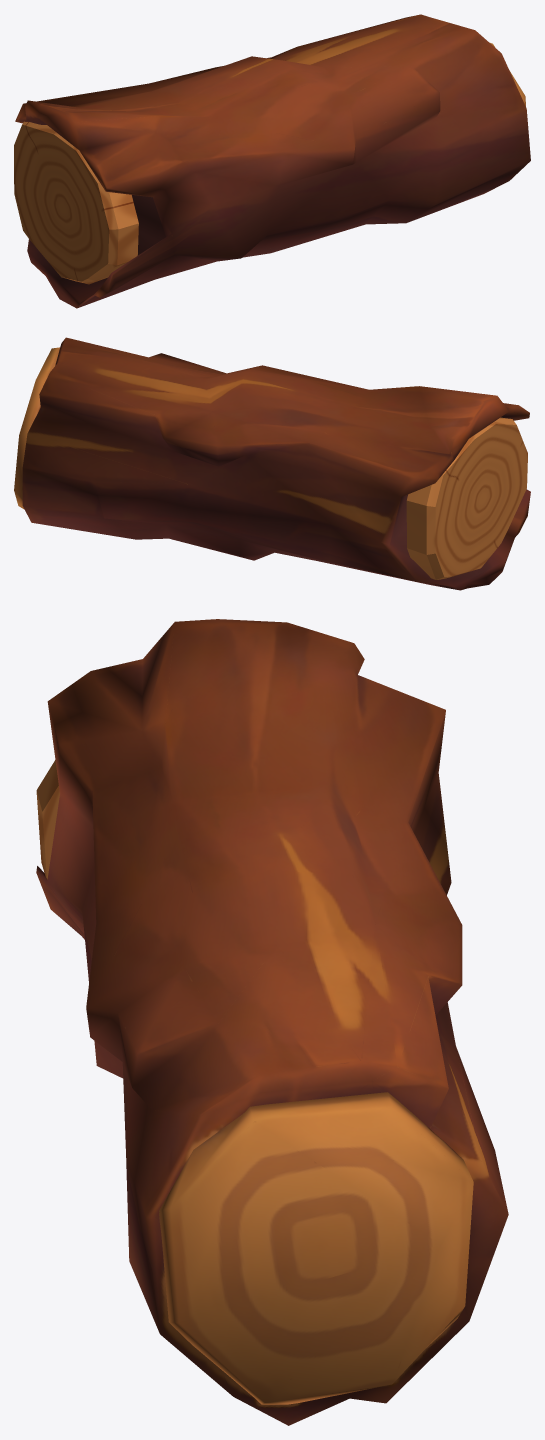
Rendered from CartoonLog_2x1.fbx.
3 renders of one model, top to bottom at view 1: azimuth 30°, elevation 25°; view 2: azimuth 150°, elevation 25°; view 3: azimuth 270°, elevation 25°, orthographic. The views are drawn at different scales.
Parts seen in each view (by area): view 1: CartoonLog_2x1; view 2: CartoonLog_2x1; view 3: CartoonLog_2x1.
Boxes of the visible parts, box(x1,y1,x2,y2) form: CartoonLog_2x1: box(14, 14, 530, 308); CartoonLog_2x1: box(14, 337, 530, 590); CartoonLog_2x1: box(36, 619, 508, 1425).
Size of the model in its own units: 192 by 80.64 by 88.08.
